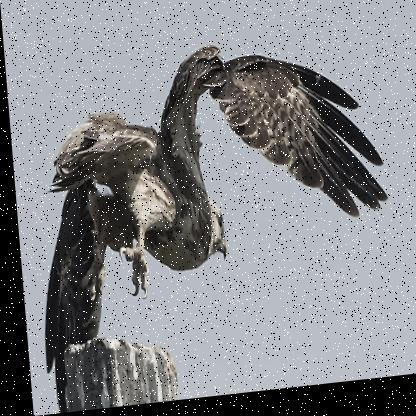Burung: (19, 37, 393, 375)
